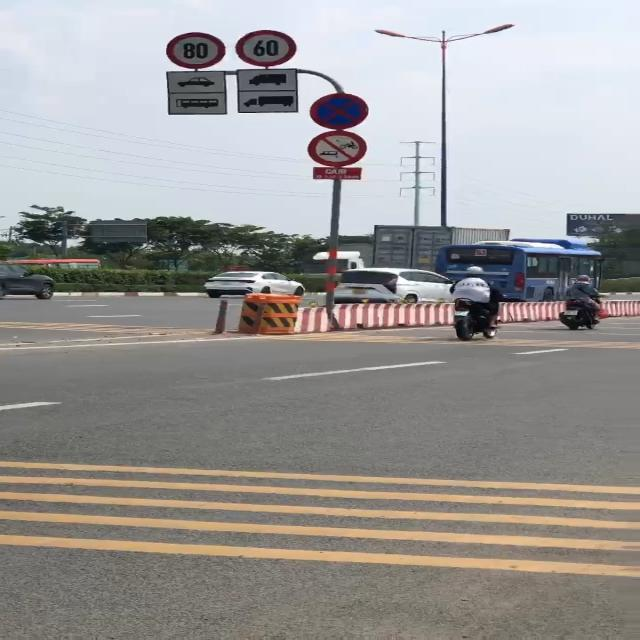Bien bao cam dung xe va do xe: (306, 92, 376, 132)
Bien bao toc do toi da cho phep: (230, 25, 306, 68), (160, 28, 226, 72)
